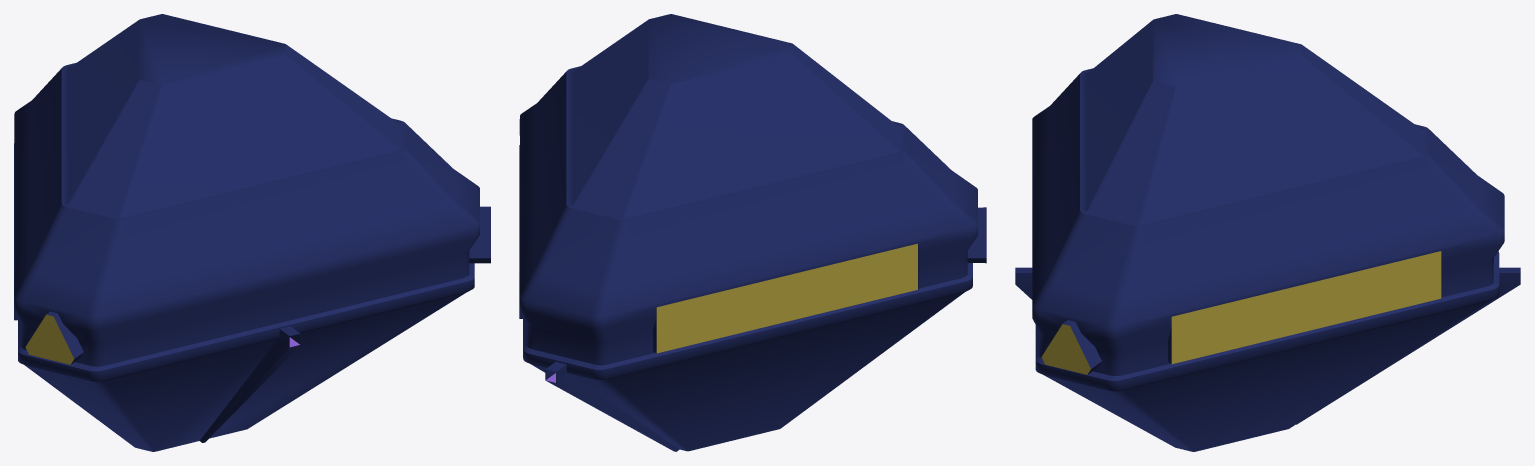
File: SS Module TriRoom.FBX
3 renders of one model, left to right at view 1: azimuth 30°, elevation 25°; view 2: azimuth 150°, elevation 25°; view 3: azimuth 270°, elevation 25°, orthographic. The views are drawn at different scales.
Parts seen in each view (by area): view 1: Prism001, Glass; view 2: Prism001, Glass; view 3: Prism001, Glass.
Boxes of the visible parts, x1,y1,x2,y2 form: Prism001: (14, 14, 490, 451); Glass: (25, 314, 73, 364); Prism001: (519, 14, 986, 451); Glass: (656, 243, 917, 353); Prism001: (1015, 14, 1520, 451); Glass: (1041, 251, 1441, 374).
Bounding box in the file's own units: 174 × 134 × 162.
